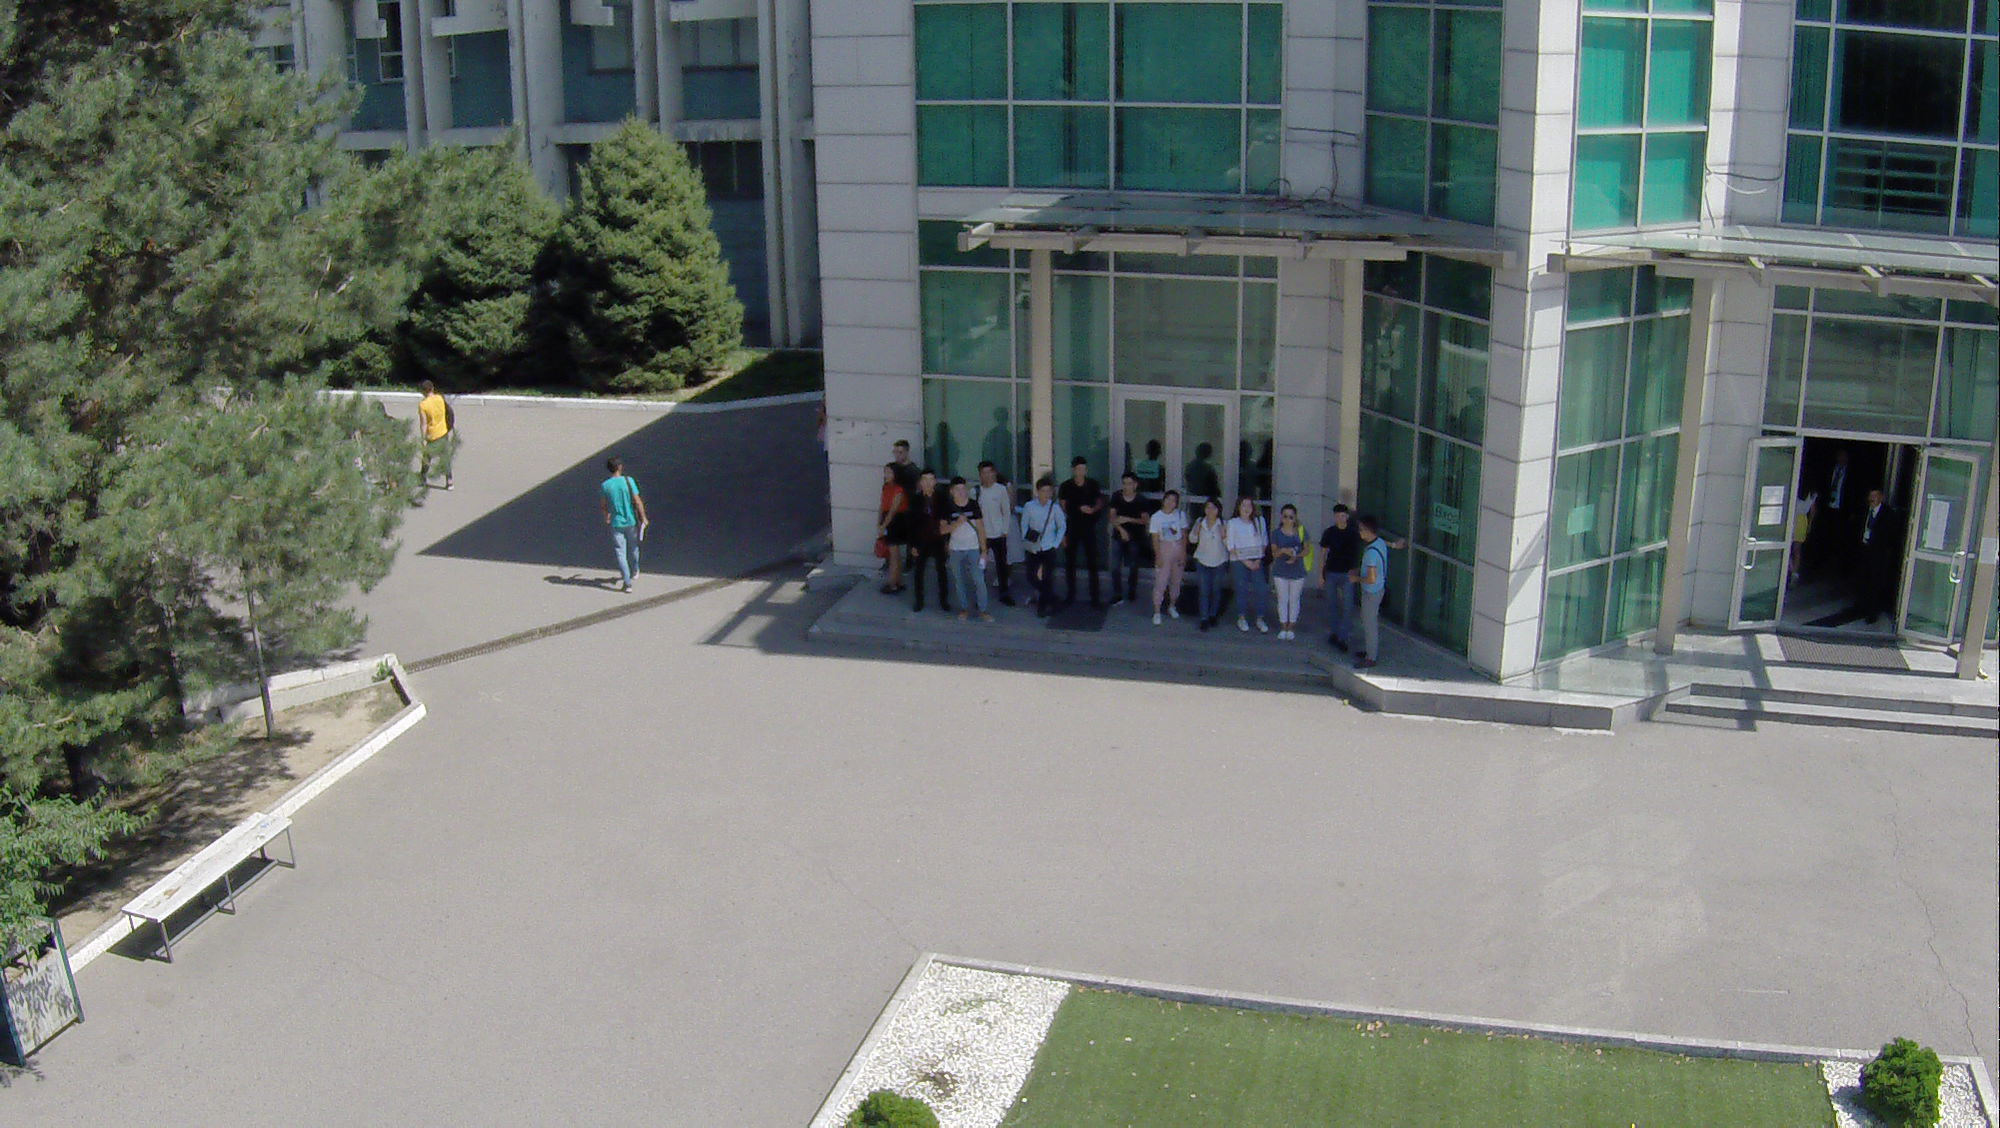person: (1056, 458, 1107, 613), (1143, 484, 1190, 635), (603, 458, 653, 599), (1267, 504, 1317, 642), (969, 464, 1014, 603), (1349, 519, 1392, 667), (1104, 471, 1151, 603), (1021, 477, 1060, 624), (1228, 495, 1269, 633), (1187, 499, 1224, 642), (414, 374, 455, 499), (874, 467, 914, 595), (950, 480, 985, 620), (1321, 505, 1355, 647), (915, 471, 947, 613)
